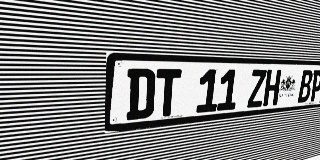1: (196, 69, 220, 113), (217, 69, 239, 111)
B: (297, 70, 313, 103)
D: (126, 69, 156, 120)
H: (263, 70, 281, 106)
P: (309, 70, 320, 102)
T: (154, 69, 182, 117)
Z: (247, 70, 267, 108)
